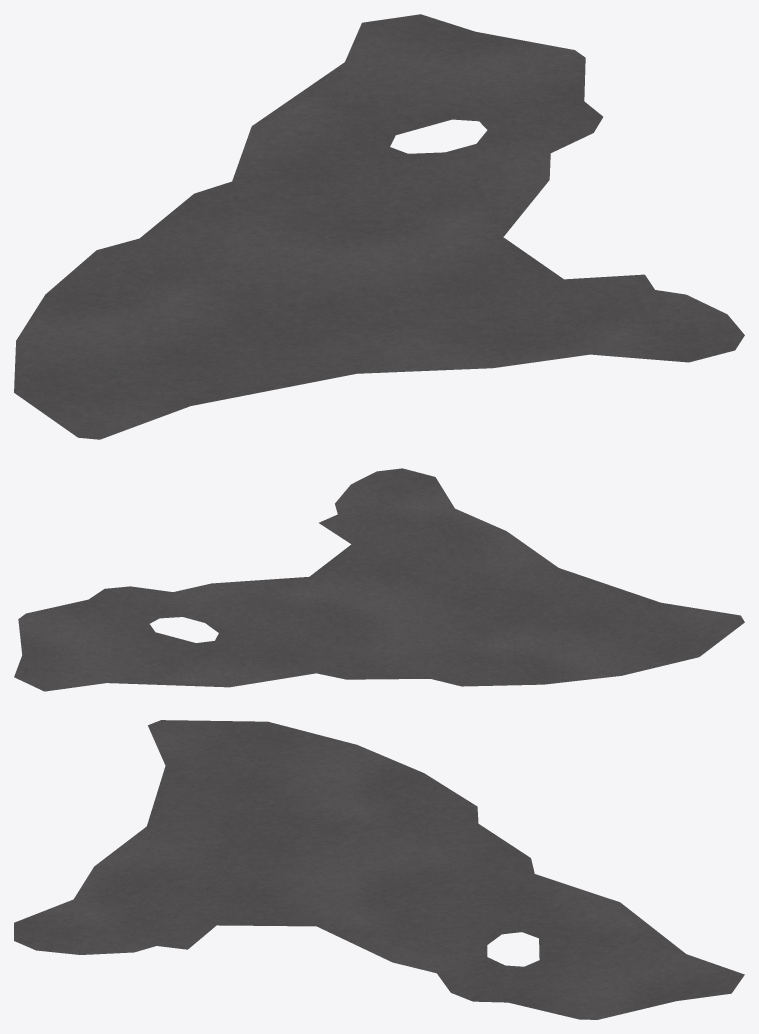
File: road_04.gltf
The picture shows the model from 3 angles, top to bottom: view 1: azimuth 30°, elevation 25°; view 2: azimuth 150°, elevation 25°; view 3: azimuth 270°, elevation 25°; orthographic projection. The views are drawn at different scales.
Parts seen in each view (by area): view 1: road_04.surface; view 2: road_04.surface; view 3: road_04.surface.
Part boxes in pixels (box(x1,y1,x2,y2)): road_04.surface: box(14, 14, 744, 439); road_04.surface: box(14, 468, 744, 691); road_04.surface: box(14, 720, 744, 1019).
Bounding box in the file's own units: 8.2 × 0.1604 × 8.2.
Materials: 1 (1 with a texture image).
